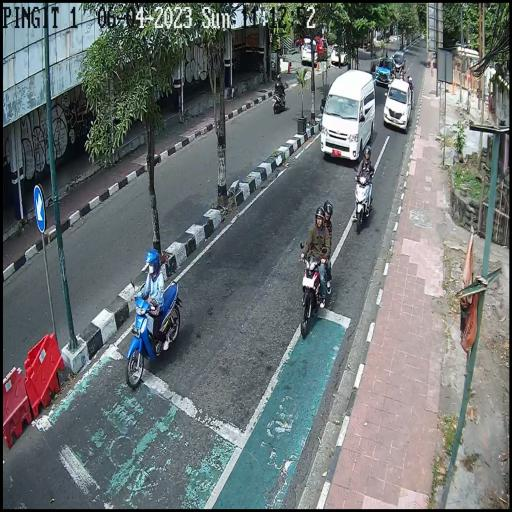mobil: (320, 70, 376, 164), (382, 76, 412, 132), (375, 59, 393, 85), (393, 51, 405, 71)
motor: (125, 272, 181, 392), (297, 238, 334, 339), (354, 169, 374, 236)
